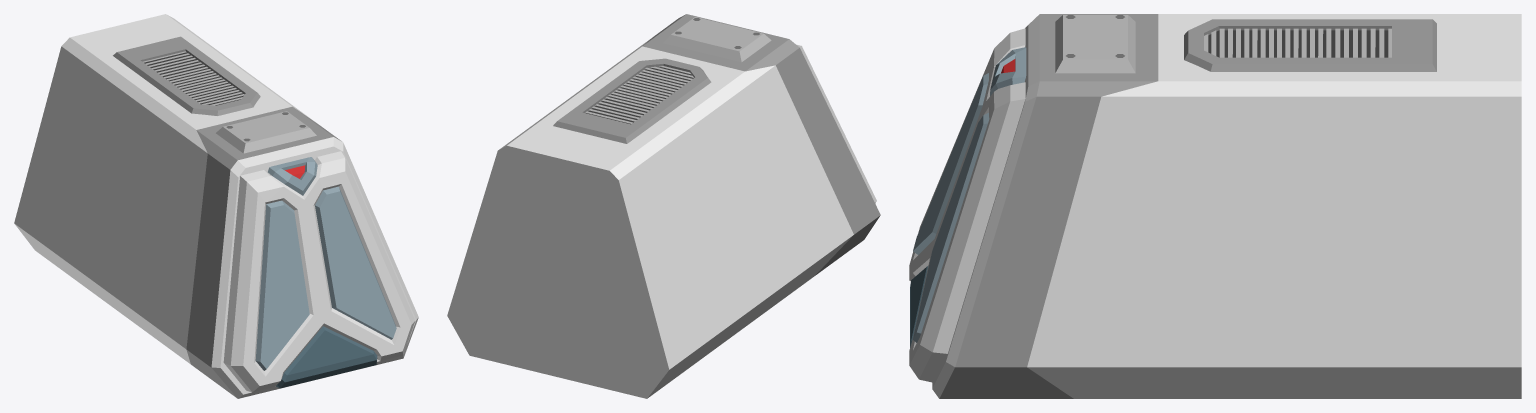
Rendered from door_001.fbx.
3 views of the same model, side by side, from view 1: azimuth 30°, elevation 25°; view 2: azimuth 150°, elevation 25°; view 3: azimuth 270°, elevation 25° (orthographic). The views are drawn at different scales.
Visible parts, largest first — view 1: door_001; view 2: door_001; view 3: door_001.
Part boxes in pixels (<box>): door_001: <box>14,14,418,398</box>; door_001: <box>447,14,880,398</box>; door_001: <box>909,14,1521,398</box>.
Bounding box in the file's own units: 350 × 624 × 343.
